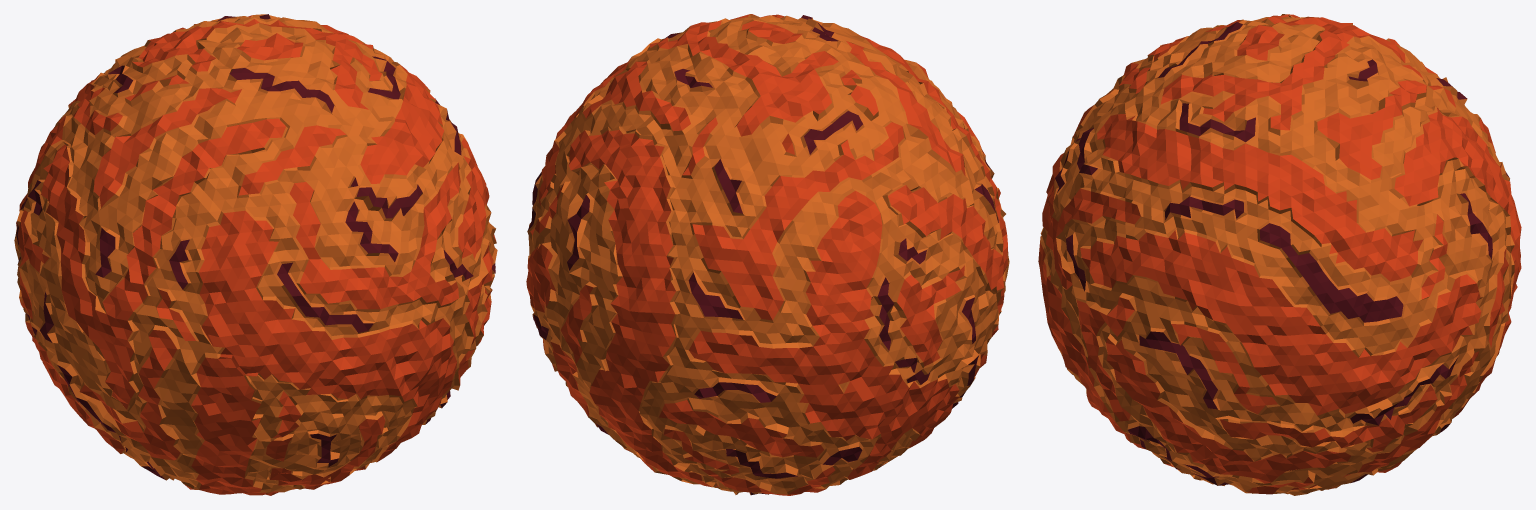
The model's file is mars0.fbx.
3 renders of one model, left to right at view 1: azimuth 30°, elevation 25°; view 2: azimuth 150°, elevation 25°; view 3: azimuth 270°, elevation 25°, orthographic.
Visible parts, largest first — view 1: Mars V3; view 2: Mars V3; view 3: Mars V3.
Part boxes in pixels (x1,y1,x2,y2): Mars V3: [14, 14, 497, 495]; Mars V3: [526, 14, 1009, 495]; Mars V3: [1038, 14, 1521, 495].
Size of the model in its own units: 214 by 213 by 213.
